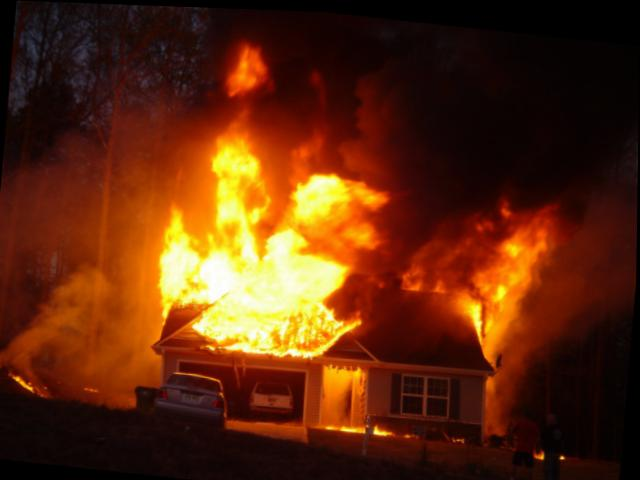fire: (150, 43, 379, 361), (454, 204, 544, 343)
